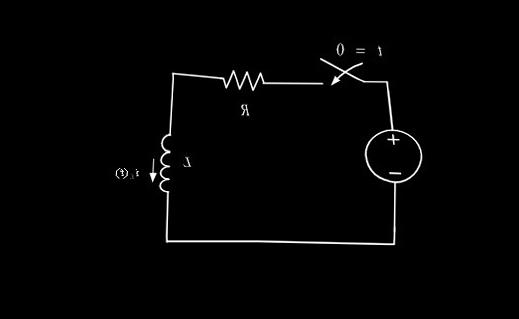Battery: (354, 119, 428, 195)
